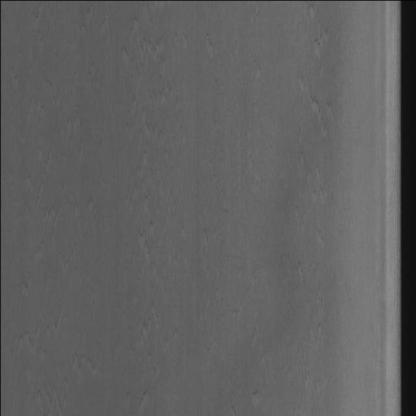silk_spot: (119, 61, 176, 380), (283, 56, 332, 361)
